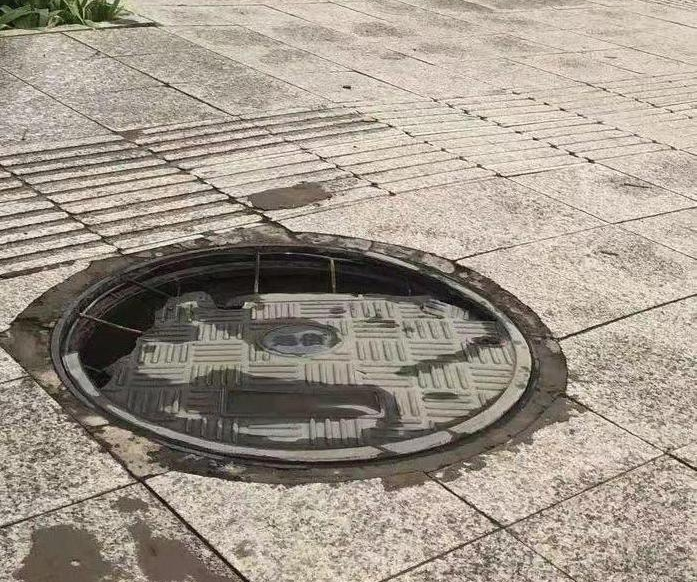broke: (49, 240, 538, 470)
